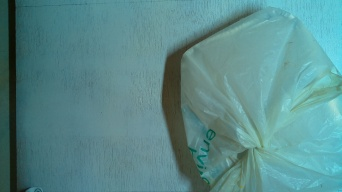f: (180, 7, 342, 191)
